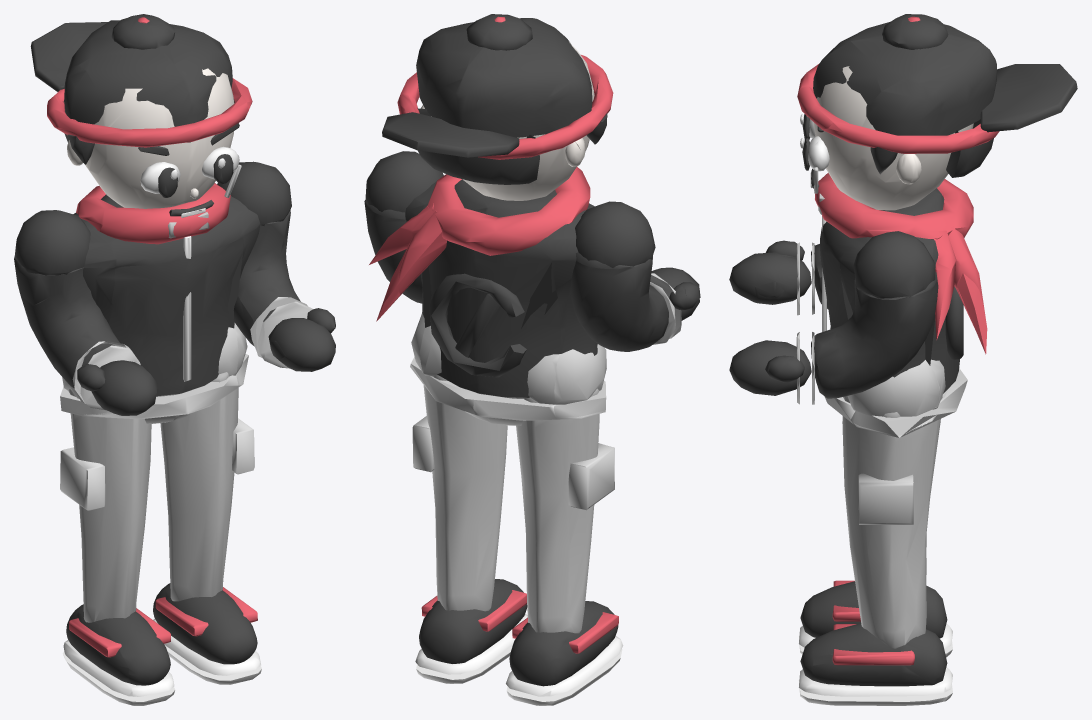
The model's file is Crew_LOD1.glb.
3 renders of one model, left to right at view 1: azimuth 30°, elevation 25°; view 2: azimuth 150°, elevation 25°; view 3: azimuth 270°, elevation 25°, orthographic. The views are drawn at different scales.
Parts seen in each view (by area): view 1: Head, LegL, LegR, Body, ArmL, ArmR; view 2: Head, LegL, LegR, Body, ArmL, ArmR; view 3: Head, LegR, ArmR, Body, ArmL, LegL.
Part boxes in pixels (<box>): Head: <box>14,14,291,273</box>; LegL: <box>60,394,188,705</box>; LegR: <box>153,372,261,684</box>; Body: <box>108,236,285,396</box>; ArmL: <box>14,256,157,415</box>; ArmR: <box>234,209,335,385</box>; Head: <box>365,14,655,269</box>; LegL: <box>473,394,623,705</box>; LegR: <box>410,367,527,683</box>; Body: <box>398,232,560,403</box>; ArmL: <box>552,254,700,417</box>; ArmR: <box>364,200,424,383</box>; Head: <box>797,14,1077,297</box>; LegR: <box>798,376,967,705</box>; ArmR: <box>729,263,987,435</box>; Body: <box>755,229,983,407</box>; ArmL: <box>729,240,828,315</box>; LegL: <box>799,368,964,657</box>.
Bounding box in the file's own units: 0.8388 × 1.9 × 0.9171.
